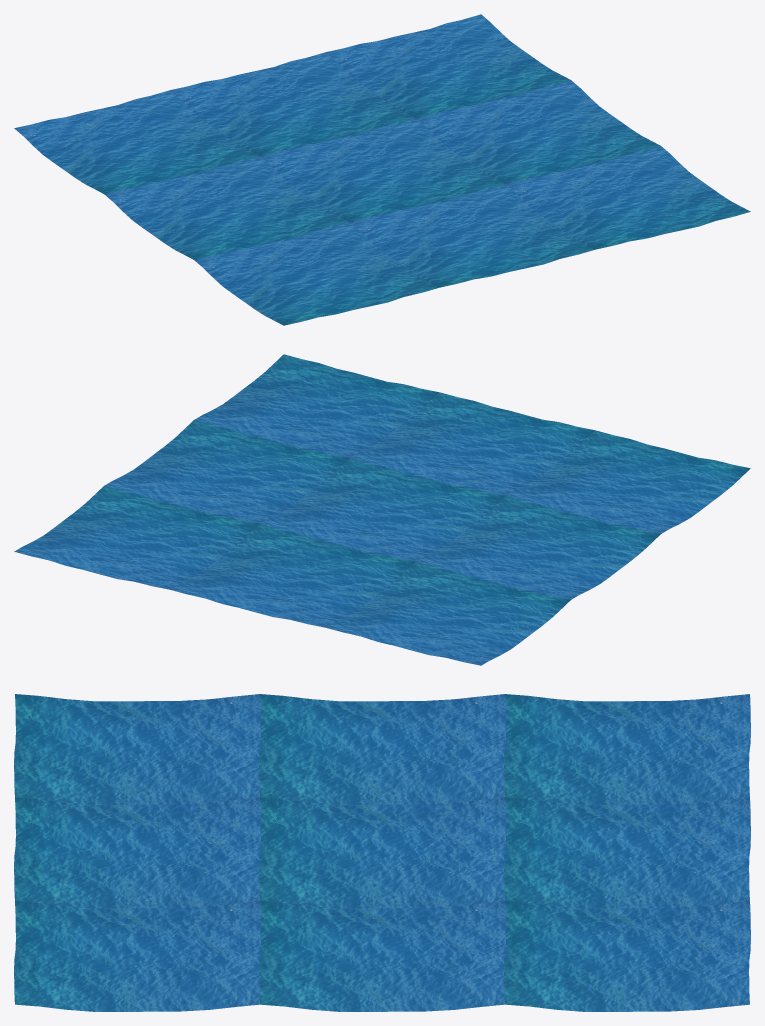
The model's file is ocean_000006.obj.
3 renders of one model, top to bottom at view 1: azimuth 30°, elevation 25°; view 2: azimuth 150°, elevation 25°; view 3: azimuth 270°, elevation 25°, orthographic. The views are drawn at different scales.
Parts seen in each view (by area): view 1: Ocean_Plan.001; view 2: Ocean_Plan.001; view 3: Ocean_Plan.001.
Part boxes in pixels (x1,y1,x2,y2): Ocean_Plan.001: (14,14,750,325); Ocean_Plan.001: (14,354,750,665); Ocean_Plan.001: (14,694,750,1011).
Bounding box in the file's own units: 109141 × 1289 × 109258.
1 material, 1 textured.
